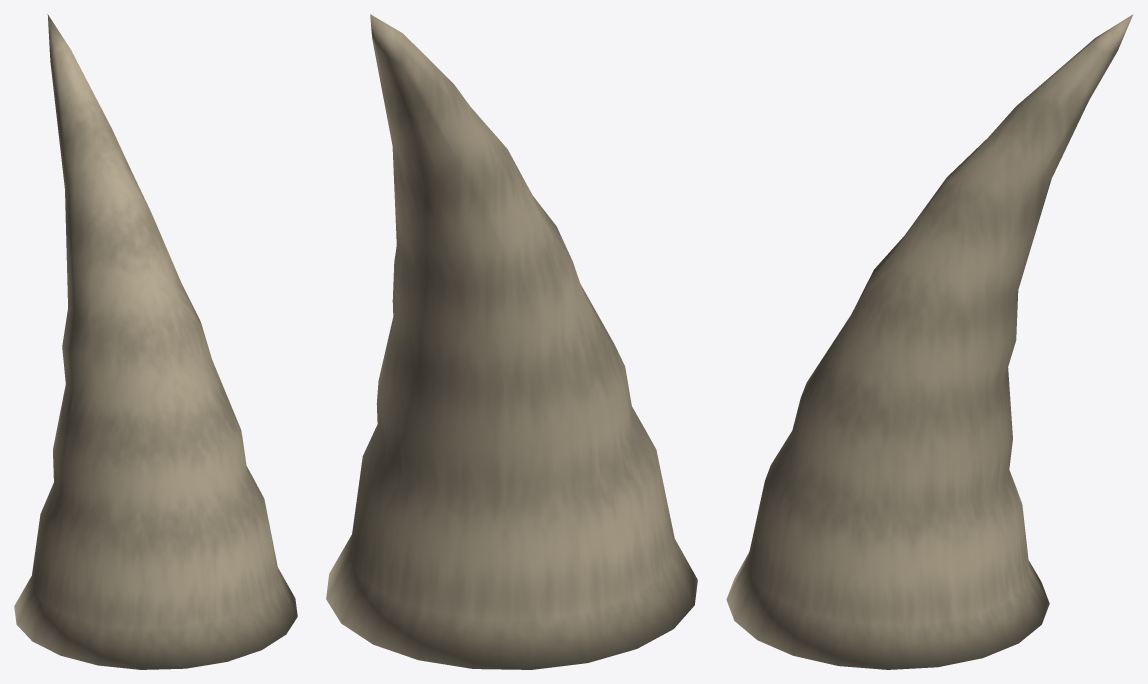
Rendered from cpart_horn_nose.glb.
3 views of the same model, side by side, from view 1: azimuth 30°, elevation 25°; view 2: azimuth 150°, elevation 25°; view 3: azimuth 270°, elevation 25° (orthographic). The views are drawn at different scales.
Parts seen in each view (by area): view 1: HornNose; view 2: HornNose; view 3: HornNose.
Part boxes in pixels (left/top/right/bottom): HornNose: left=14, top=14, right=297, bottom=669; HornNose: left=326, top=14, right=697, bottom=669; HornNose: left=726, top=14, right=1133, bottom=669.
Size of the model in its own units: 0.079 by 0.159 by 0.0995.
Materials: 1 (1 with a texture image).
